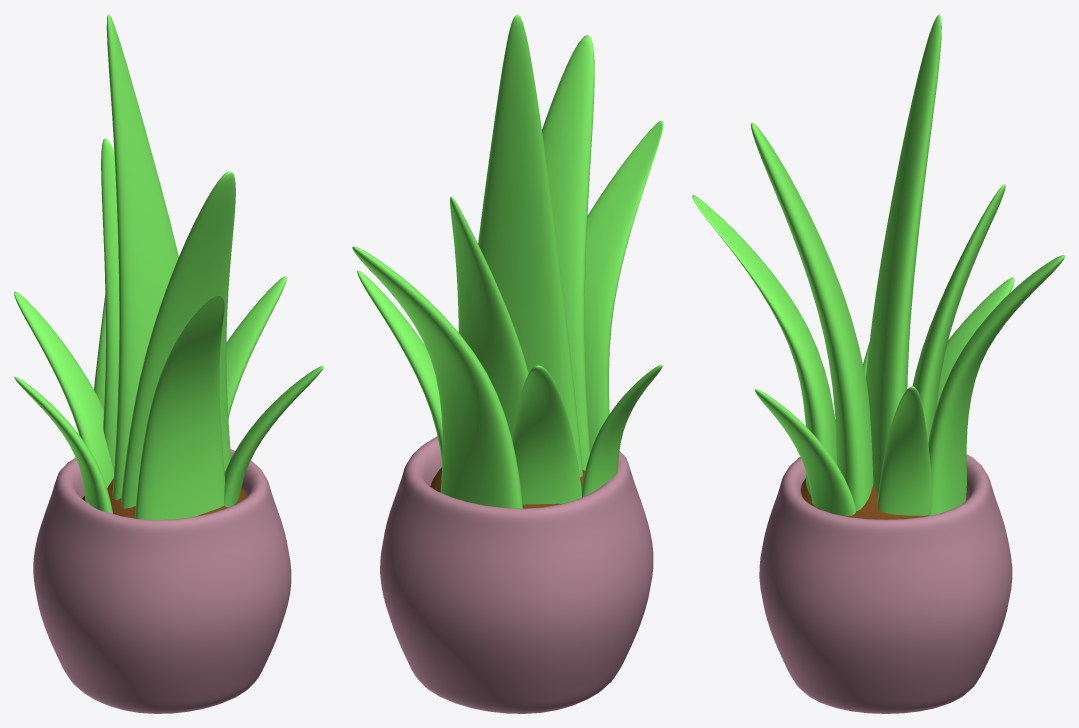
Rendered from Invierno1 b.fbx.
3 views of the same model, side by side, from view 1: azimuth 30°, elevation 25°; view 2: azimuth 150°, elevation 25°; view 3: azimuth 270°, elevation 25° (orthographic). The views are drawn at different scales.
Visible parts, largest first — view 1: Sphere.007; view 2: Sphere.007; view 3: Sphere.007.
Part boxes in pixels (<box>): Sphere.007: <box>14,14,323,713</box>; Sphere.007: <box>352,14,663,713</box>; Sphere.007: <box>692,14,1064,713</box>.
Bounding box in the file's own units: 40.18 × 90.27 × 46.35.
